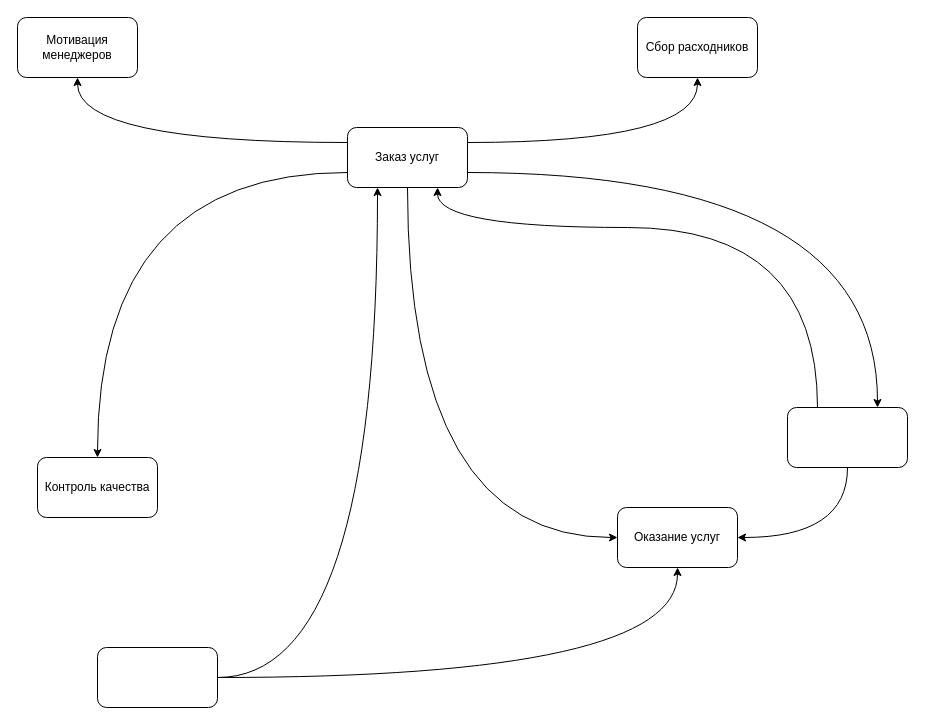
Image size: 925x725. Some labels were removed from this diagram. The centre of each missing label's shape, as x and y in pixels:
Найм воркеров: [157,677]
Учет и взаиморасчеты: [847,437]
